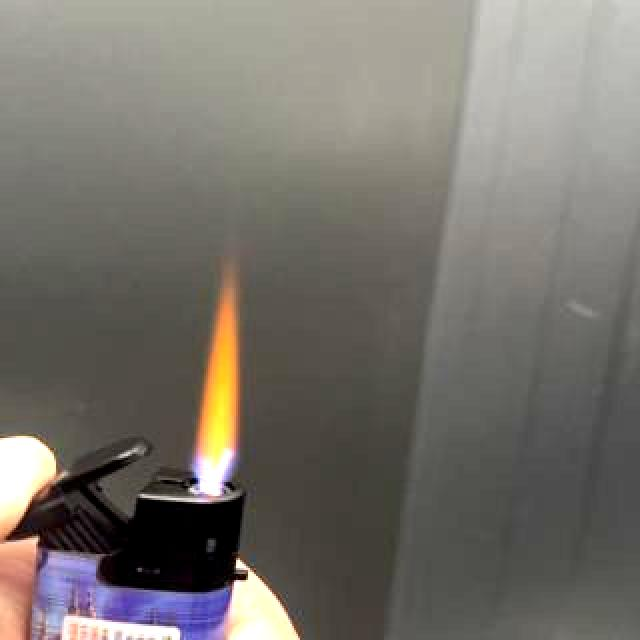fire: (188, 267, 242, 485)
